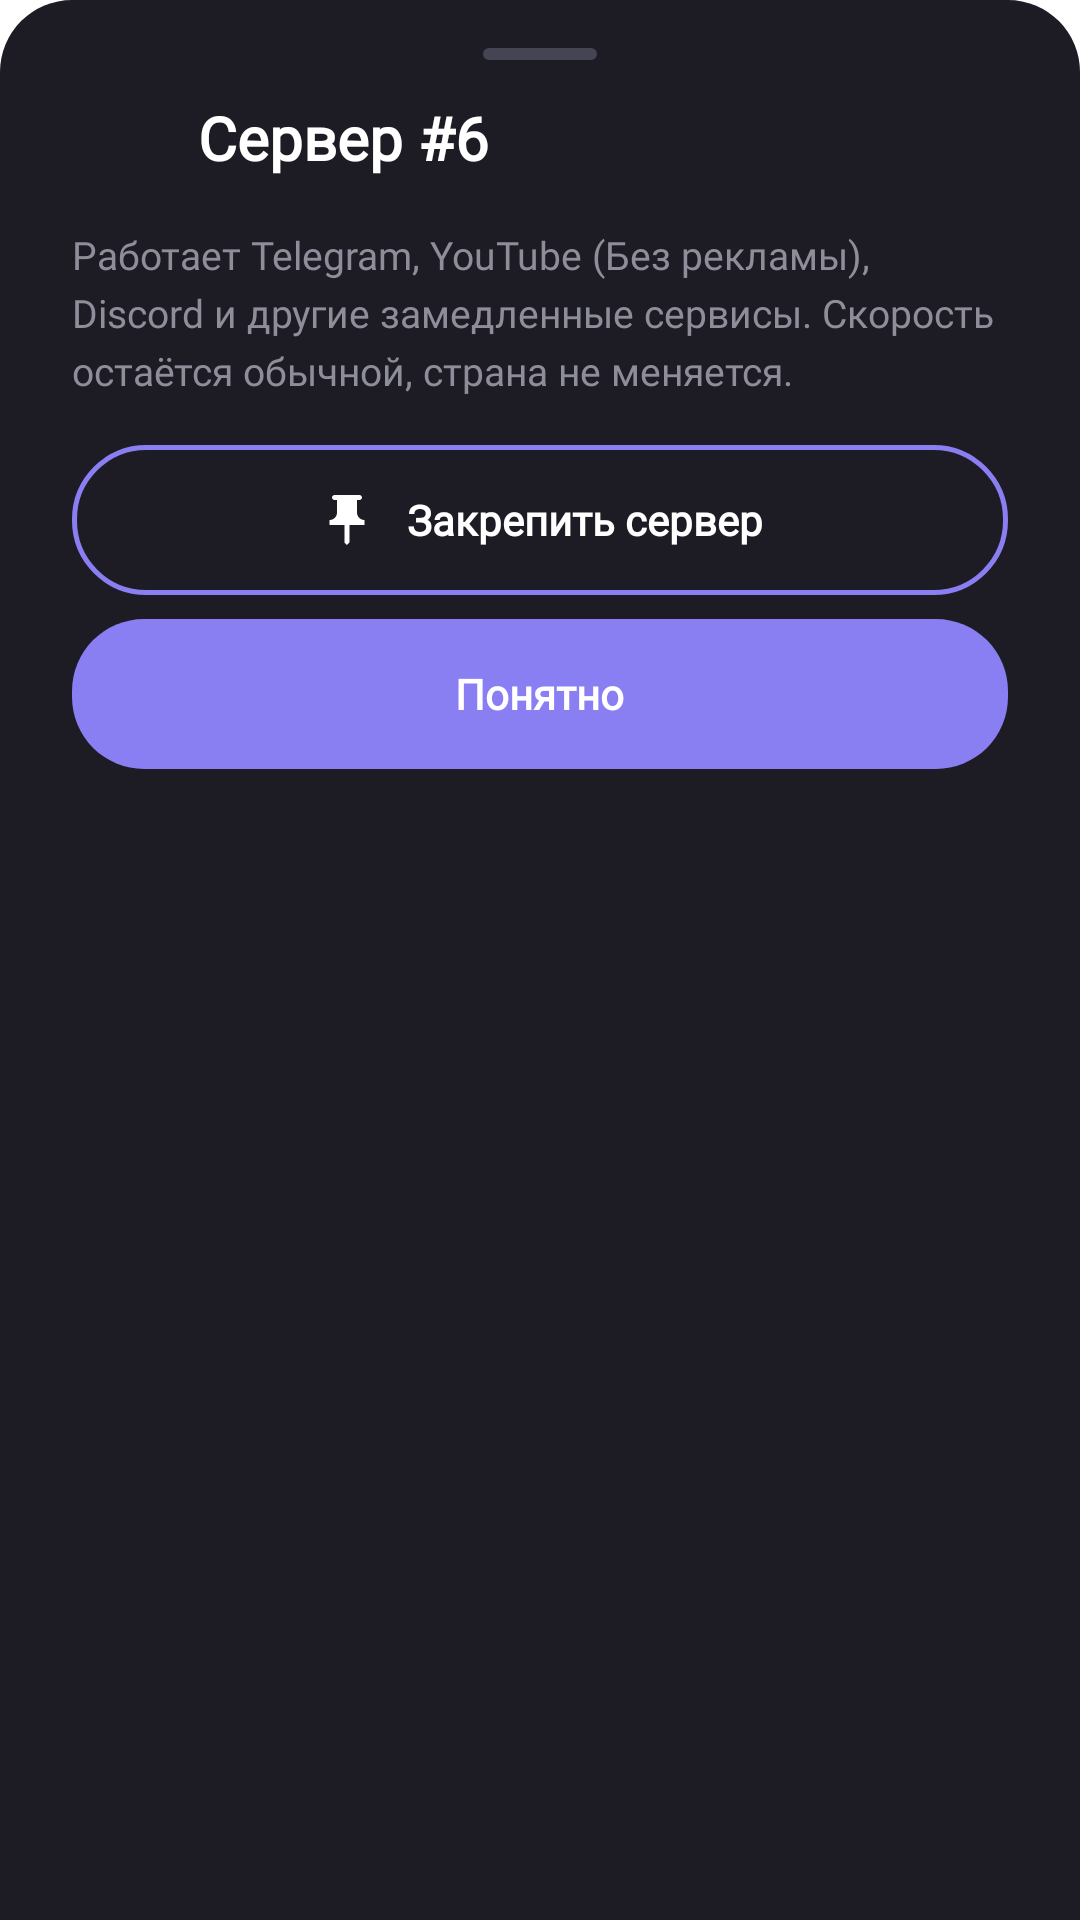

Named icons in this screenshot (1080×1920) and their centers, (x,y):
Pin server: (347,520)
